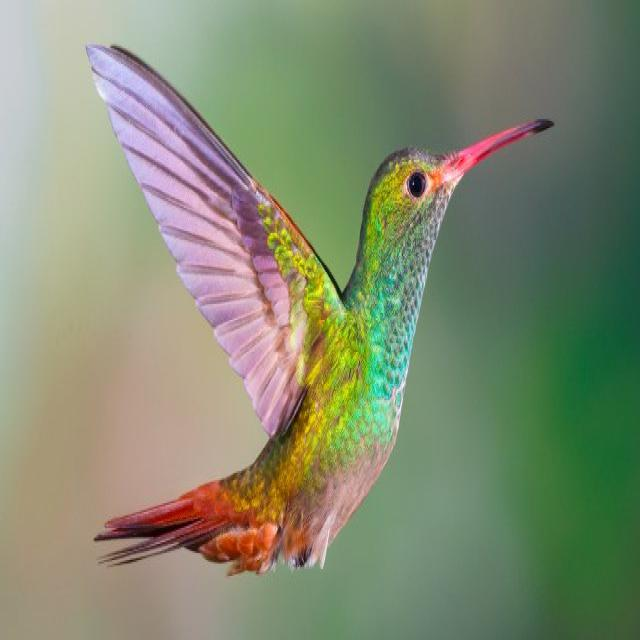Humming Bird: (85, 48, 571, 576)
